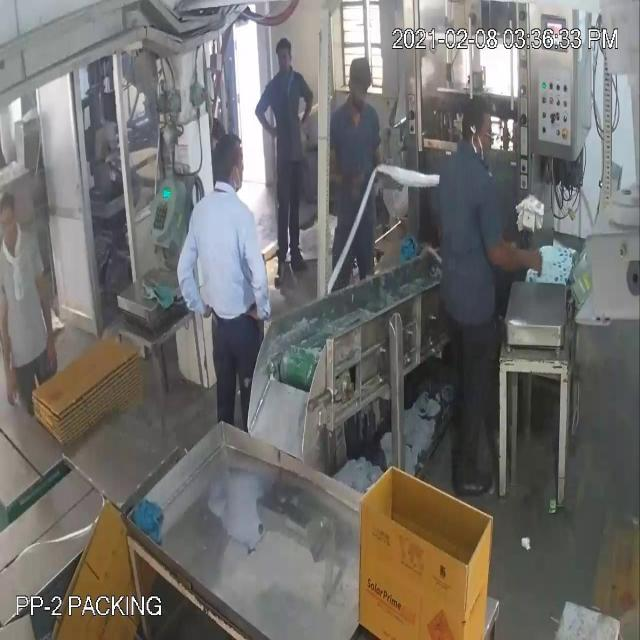No_Gloves: (13, 80, 522, 350)
